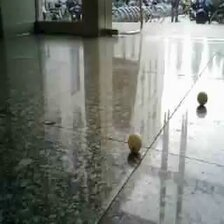w: (127, 132, 143, 153), (196, 91, 208, 106)
